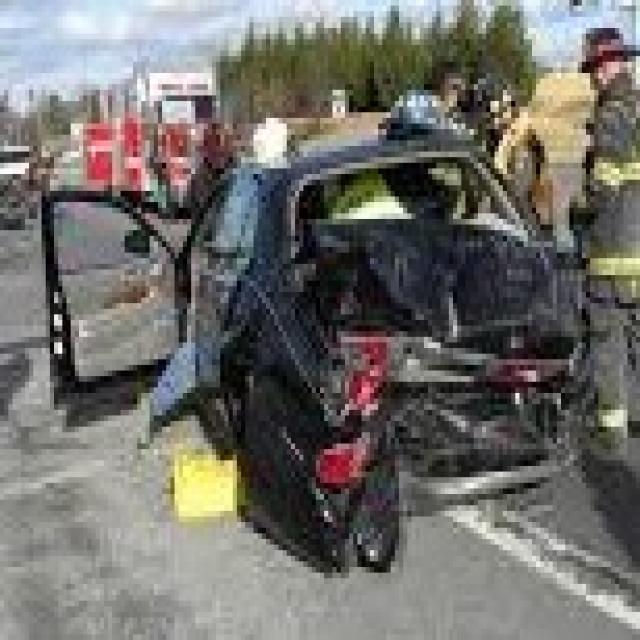severe: (253, 198, 584, 498)
